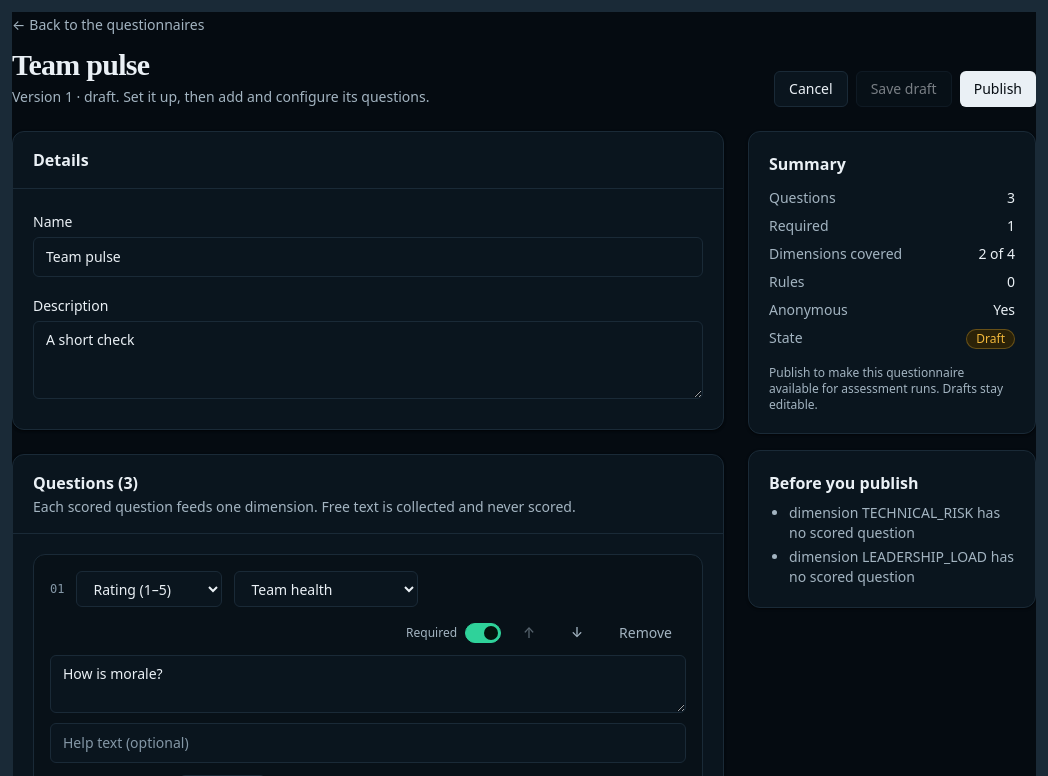
Test case: BuilderPage: editing › enables saving only after a change
Expected: the heading "Team pulse" is shown, [12,48,149,81]
Expected: the button "Save draft" is disabled, [856,71,952,107]
In the field labelled "Name": (368, 257) [33,237,703,277], type "!"
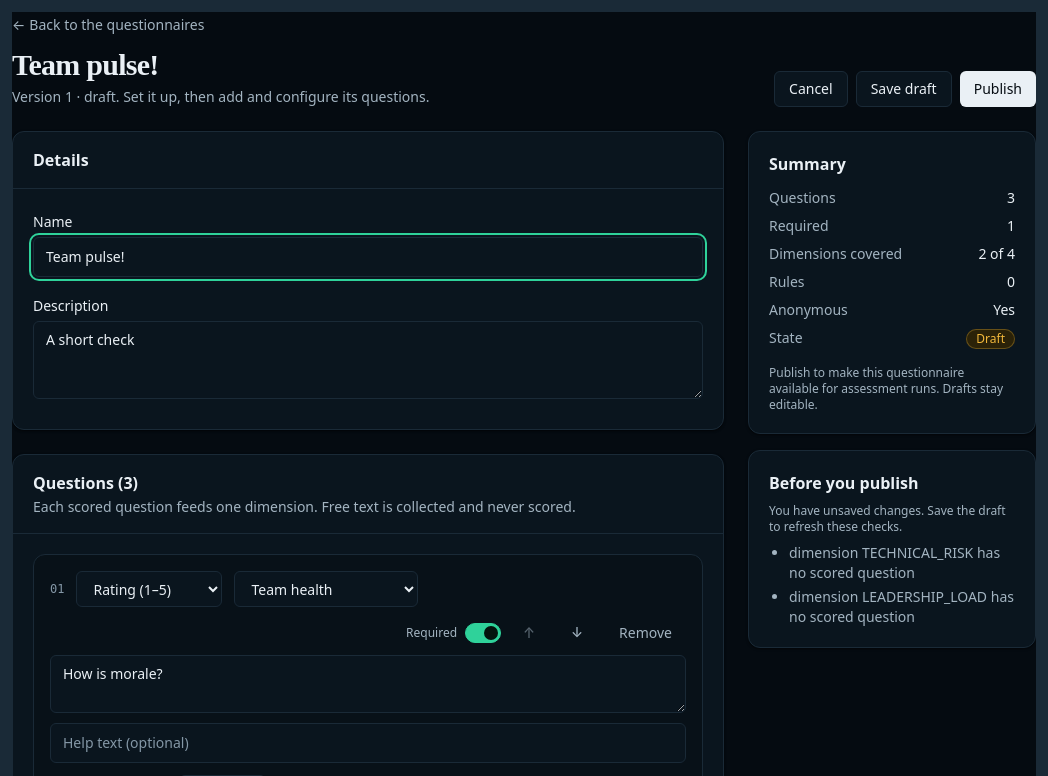
Expected: the button "Save draft" is enabled, [856,71,952,107]
Expected: the text "You have unsaved changes" is shown, [769,502,1006,535]
